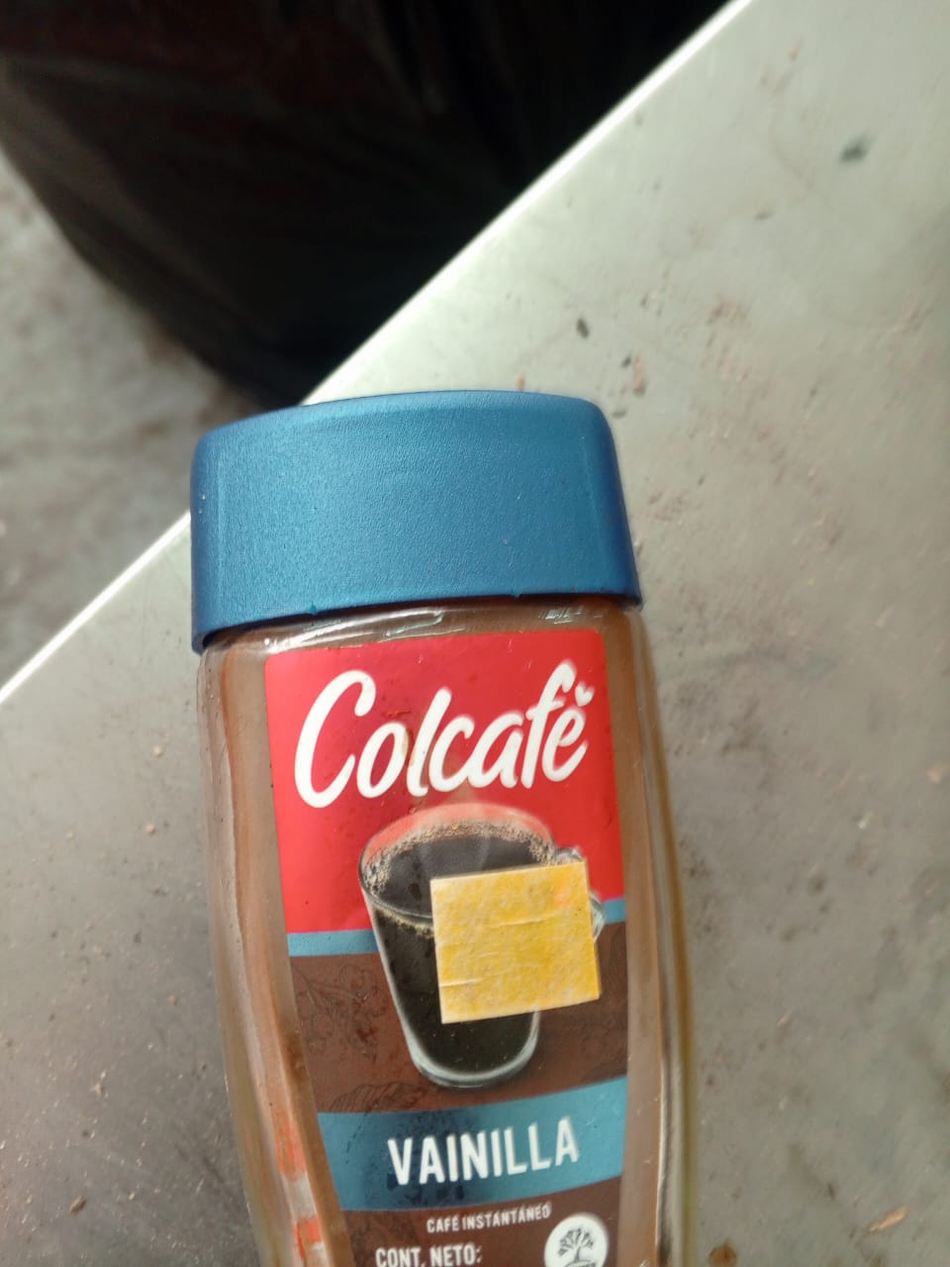Plastico: (191, 392, 647, 601)
Vidrio: (196, 603, 693, 1267)
